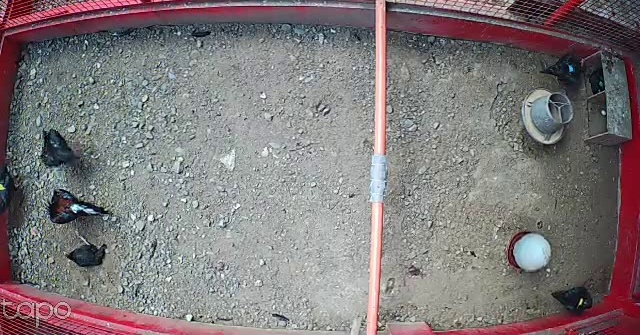Chicken: (36, 127, 84, 168), (538, 53, 589, 87), (545, 285, 596, 316), (0, 161, 24, 215), (65, 242, 108, 268)
Rooster: (44, 185, 109, 226)
Saddle_Color_Blue: (568, 64, 575, 74)
Saddle_Color_Yellow: (0, 182, 5, 193)
